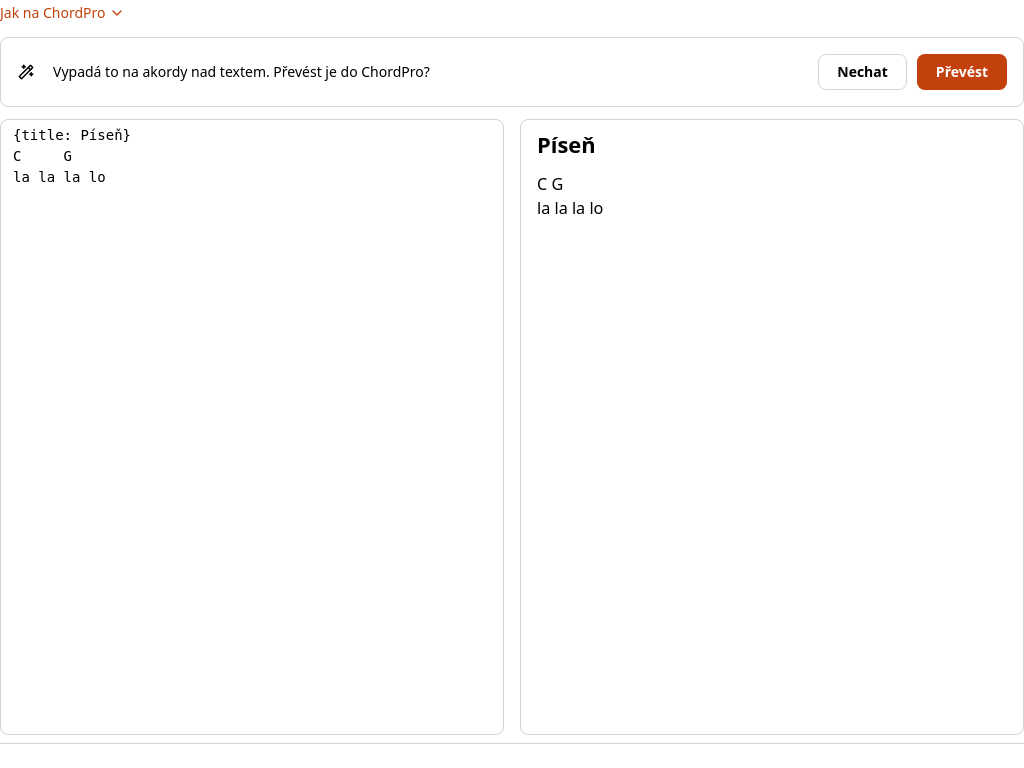
Test: ChordProEditor › offers to convert chords above the lyrics, and converts them
This screenshot has width=1024, height=768.
Click the button "Převést".
click(962, 72)  # box [917,54,1007,90]
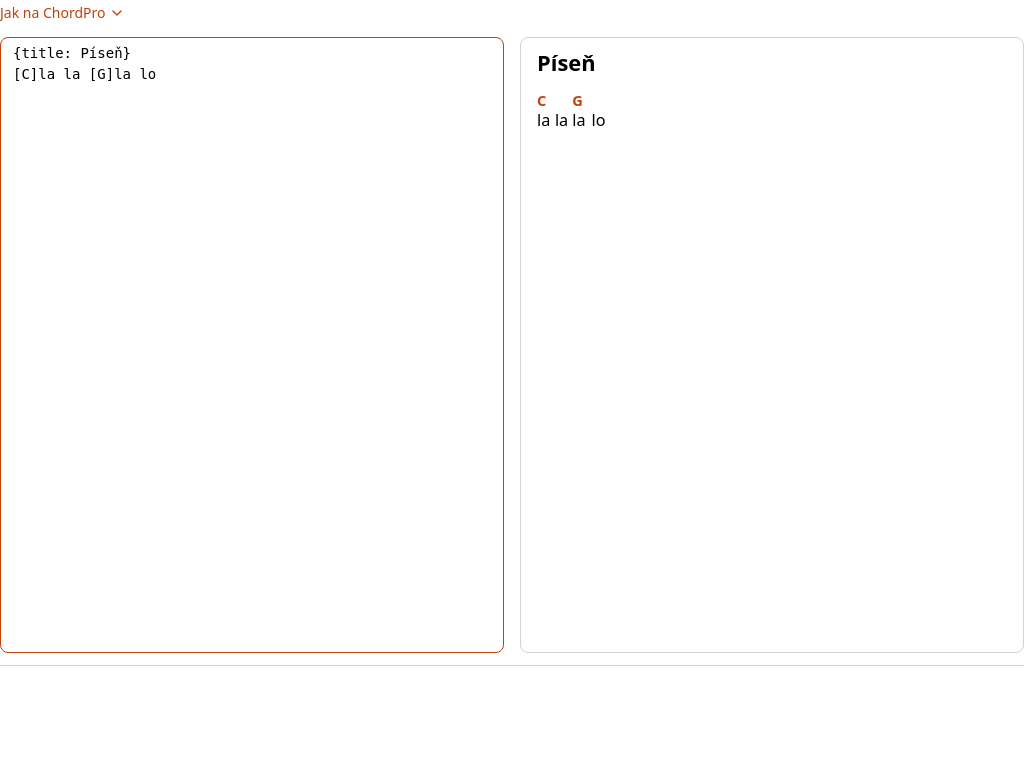
Check: the text "Převést" is gone
